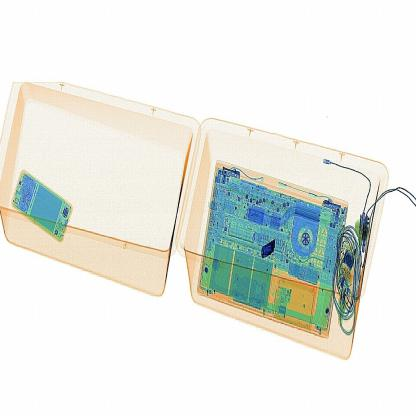knife: (256, 236, 278, 262)
